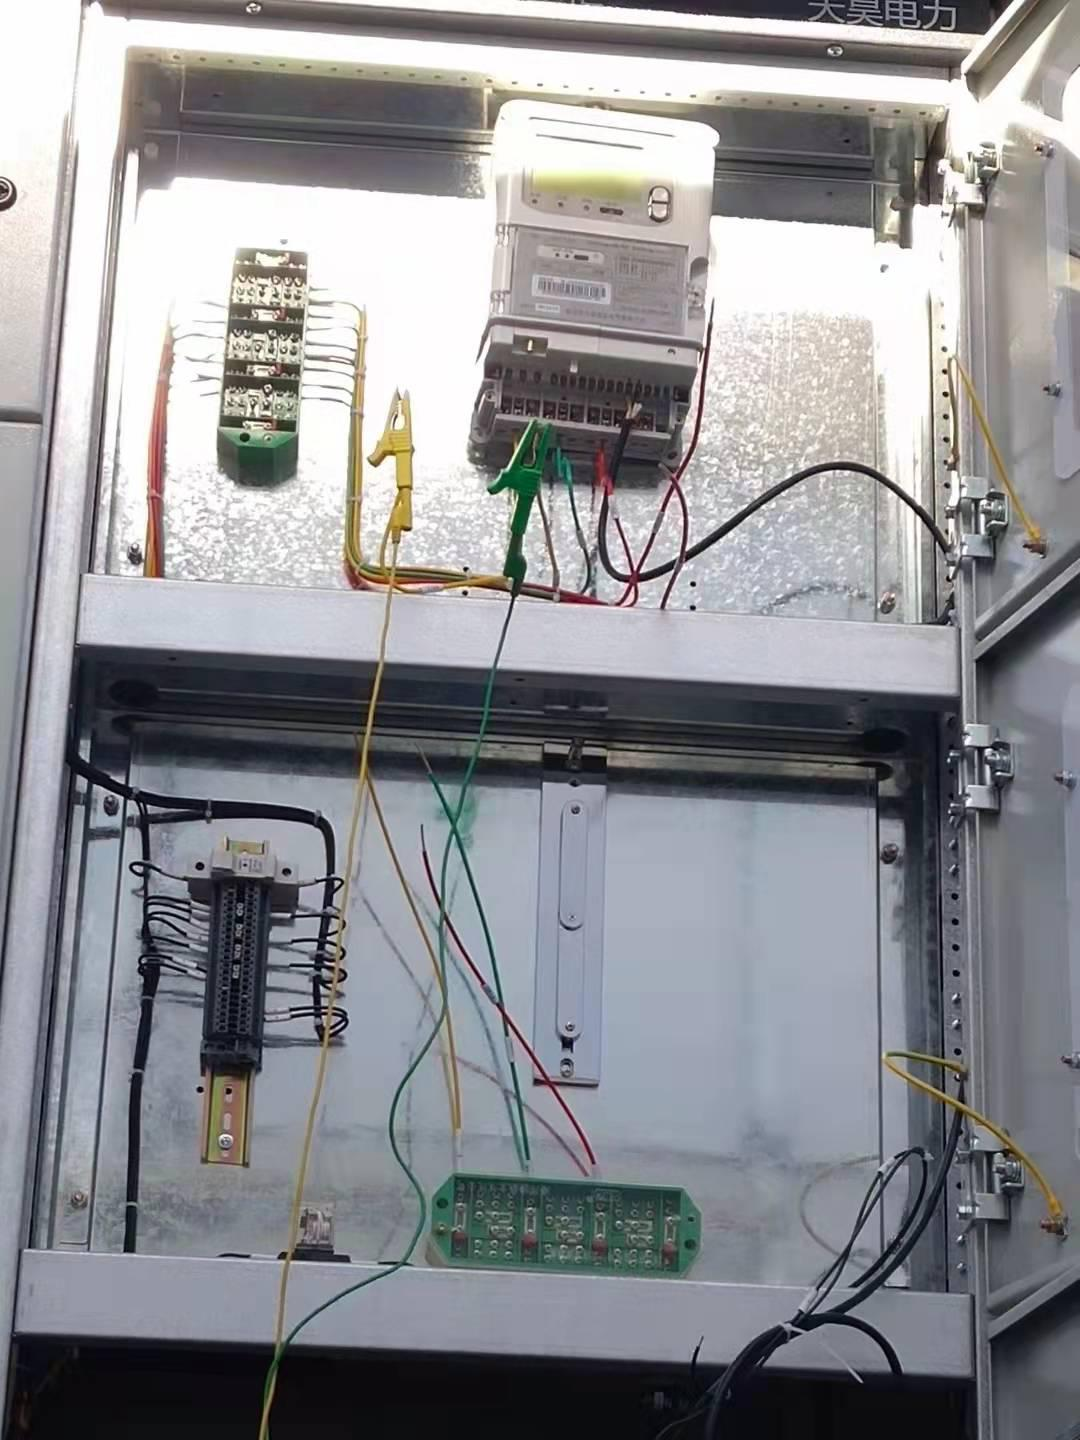digital: (499, 100, 712, 365)
